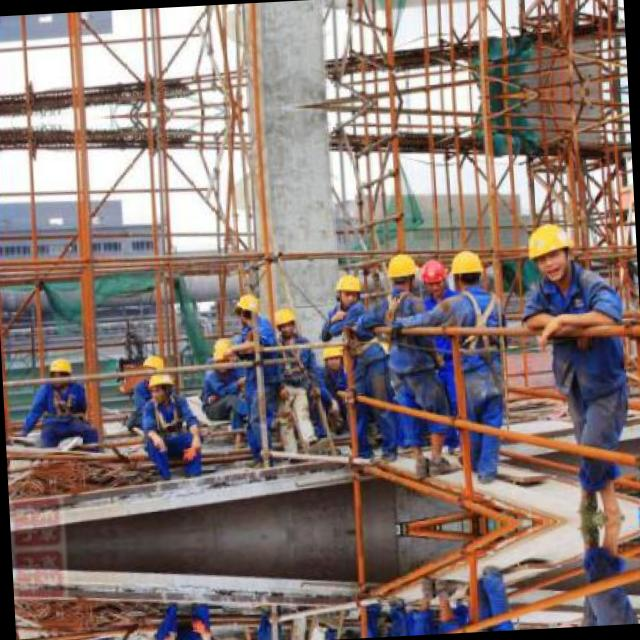helmet: (522, 218, 576, 284), (448, 246, 484, 292), (386, 248, 418, 294), (331, 272, 362, 309), (232, 290, 262, 327), (419, 260, 448, 298), (318, 338, 348, 370), (148, 371, 176, 403), (48, 355, 74, 389), (272, 303, 297, 338), (142, 351, 164, 382)
